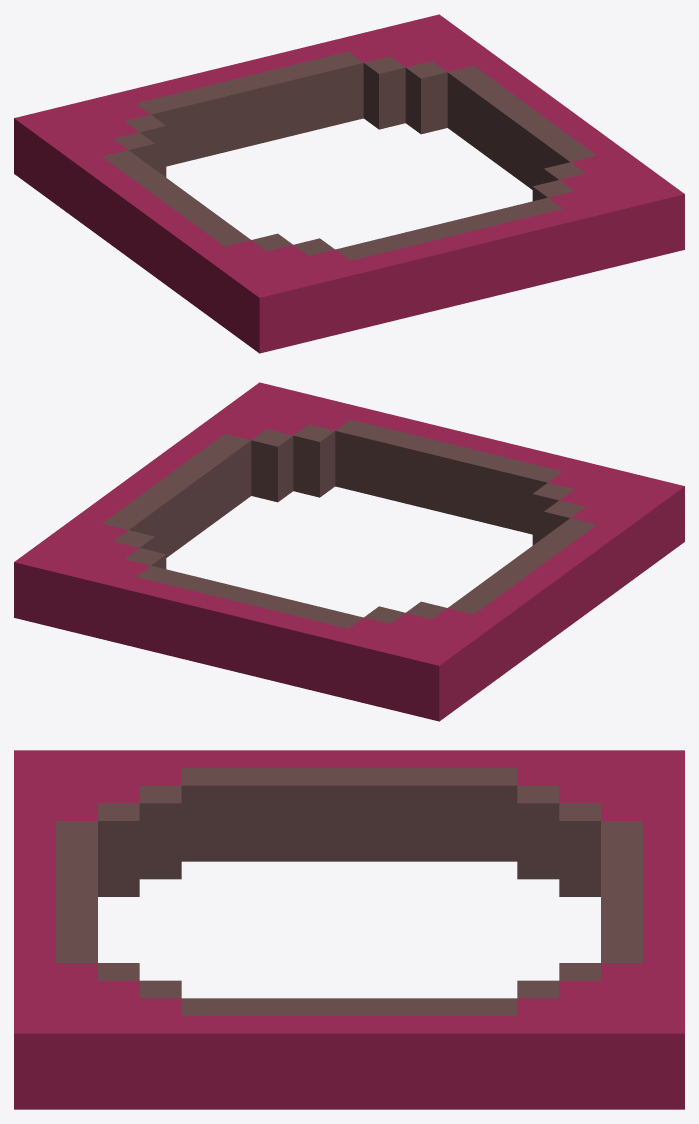
File: PitTrap.obj
3 views of the same model, one above another, from view 1: azimuth 30°, elevation 25°; view 2: azimuth 150°, elevation 25°; view 3: azimuth 270°, elevation 25° (orthographic). The views are drawn at different scales.
Bounding box in the file's own units: 1.6 × 0.2 × 1.6.
Materials: 1 (1 with a texture image).
